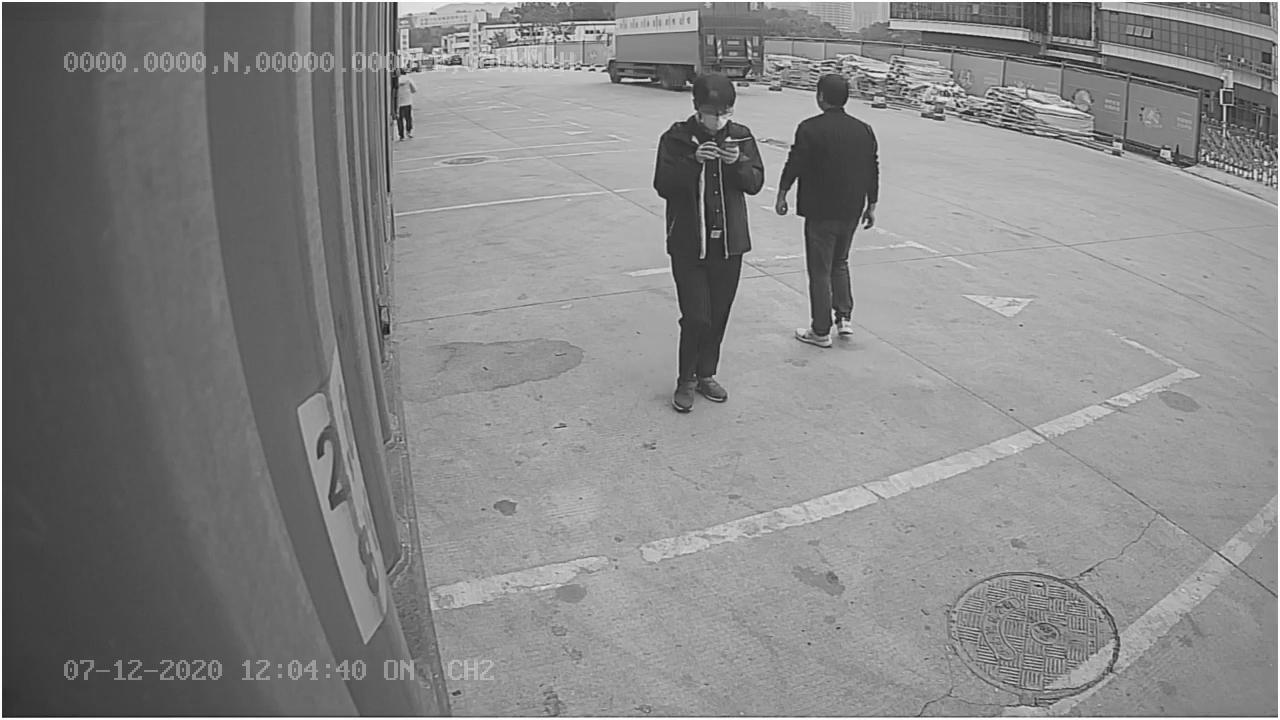person: (773, 67, 883, 347)
